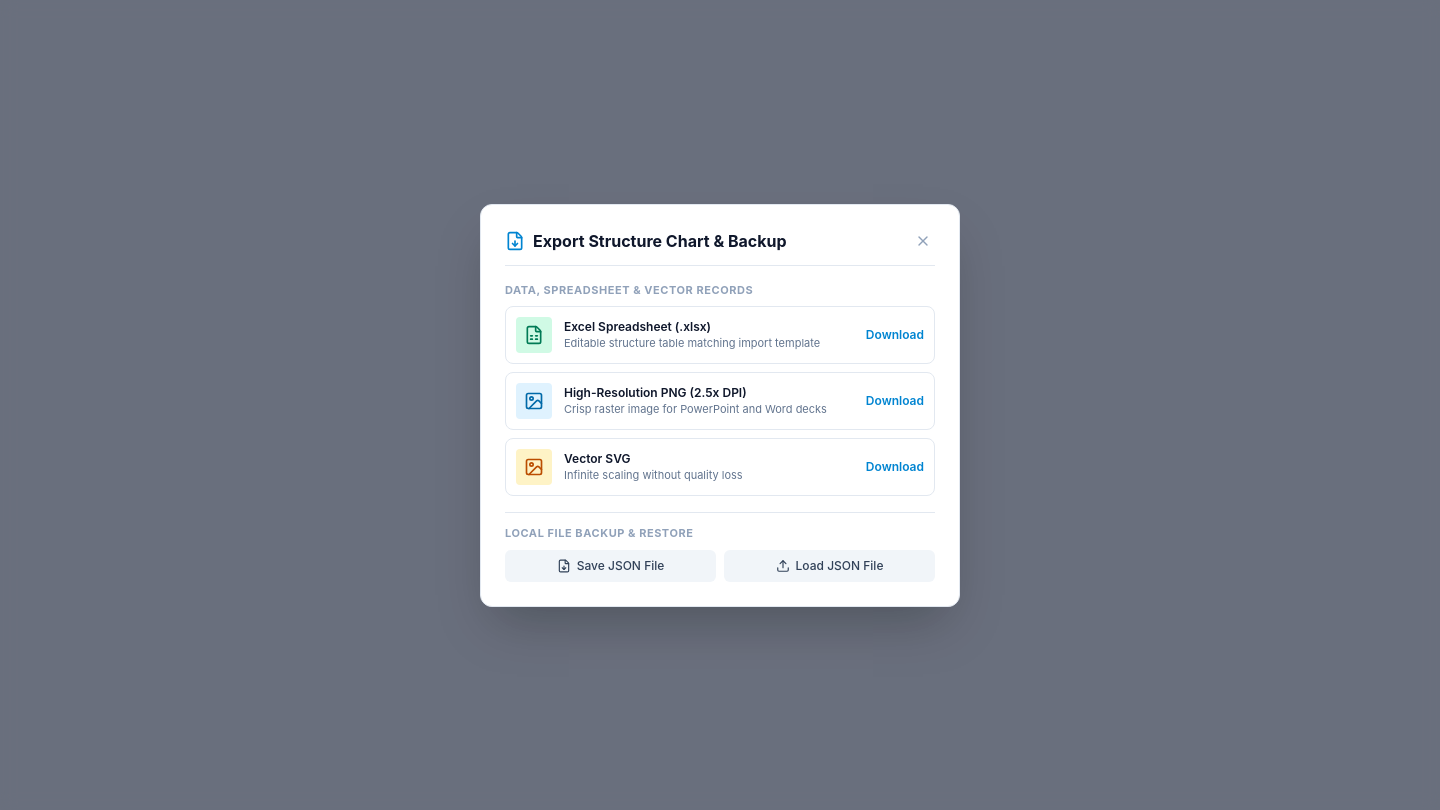
Test: ExportModal Component › Encrypted JSON Export & Import › opens PasswordPromptModal on Save JSON File when encryption flag is enabled and saves encrypted file on password submit
Click the button "Save JSON File".
click(610, 566)  # box [505,550,716,582]
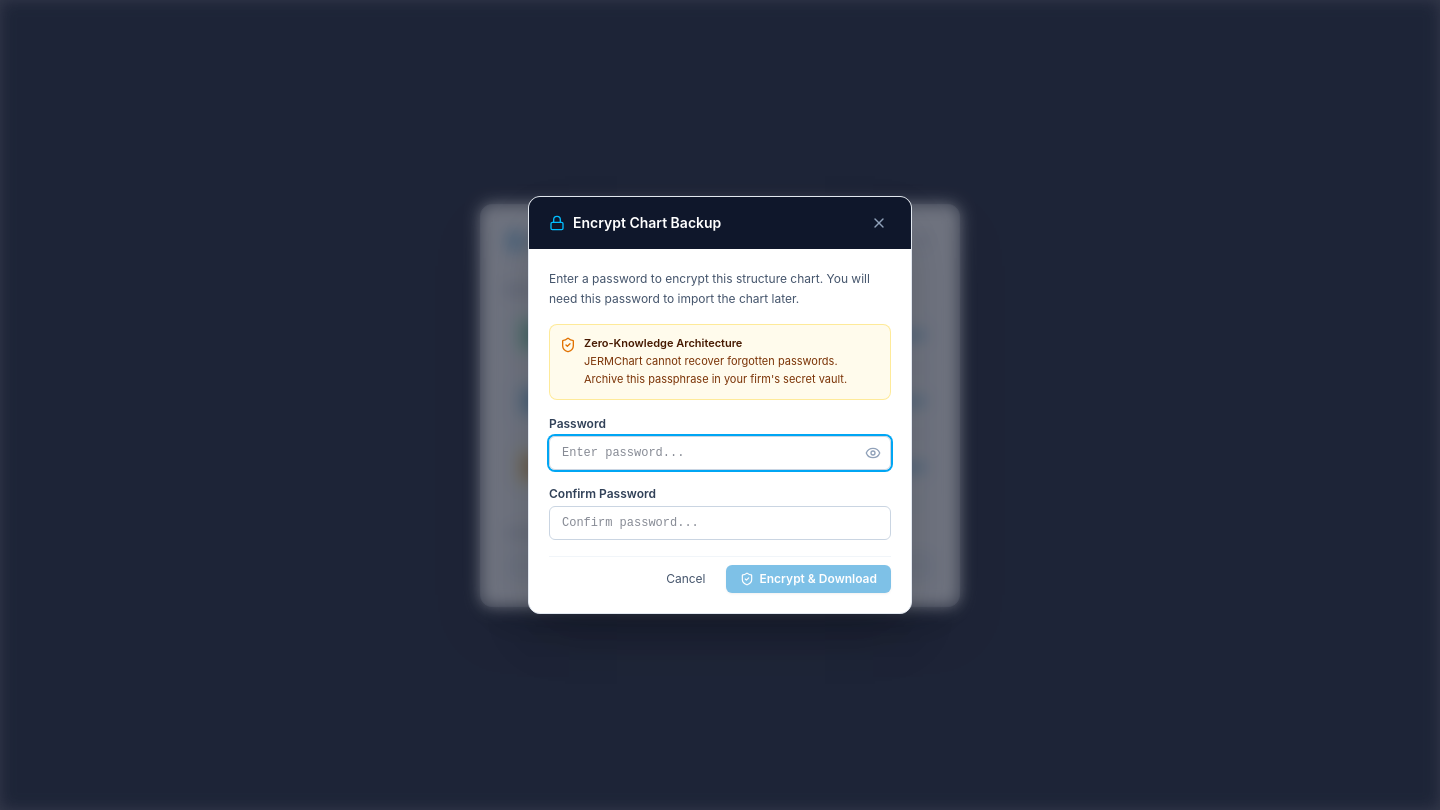
Result: the heading "Encrypt Chart Backup" is shown at [573,213,721,233]
Type "SecretPass123!" into the password field labelled "Password".
click(720, 453); type("SecretPass123!")  # box [549,436,891,470]
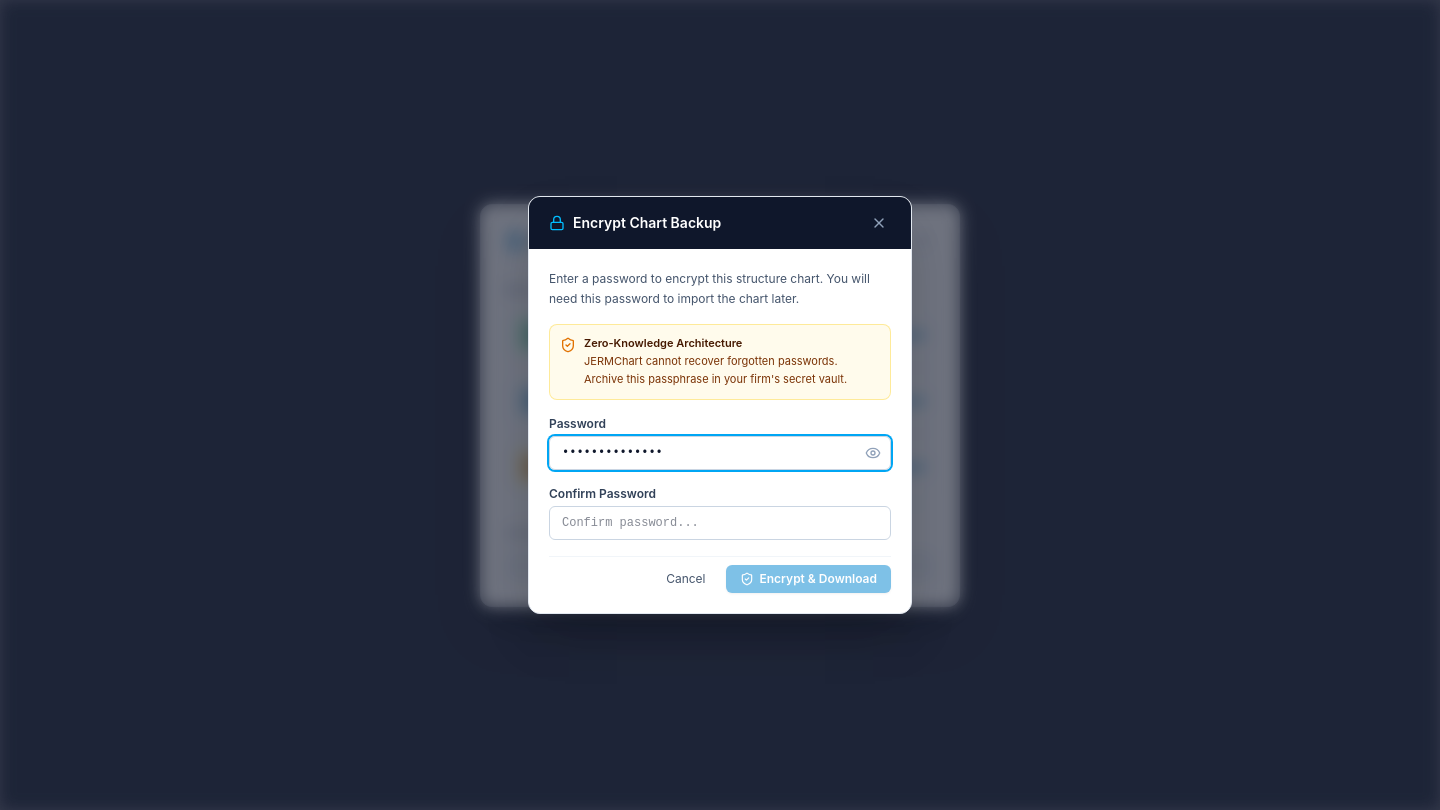
Type "SecretPass123!" into the password field labelled "Confirm Password".
click(720, 523); type("SecretPass123!")  # box [549,506,891,540]
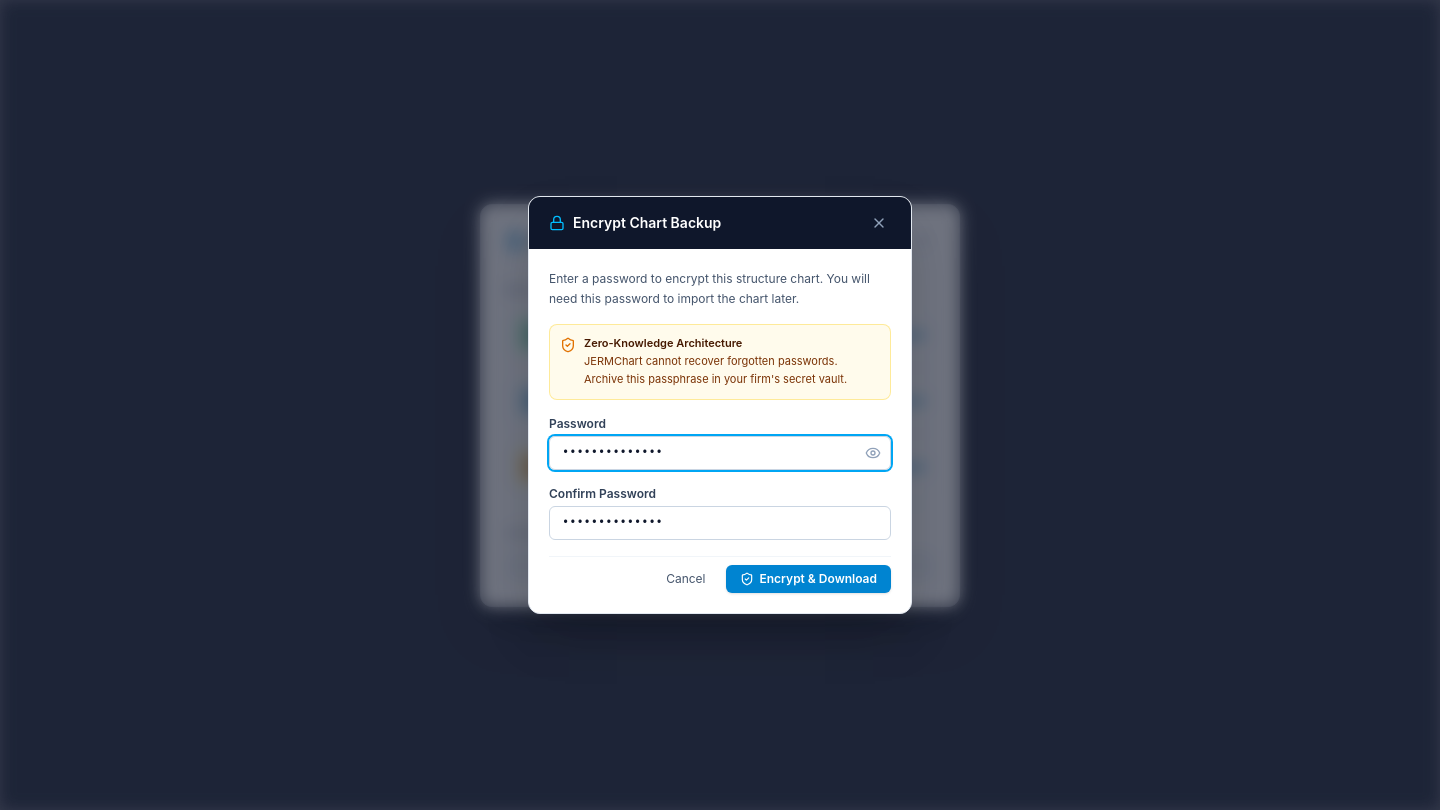
Click the button "Encrypt & Download".
click(808, 579)  # box [726,565,891,593]
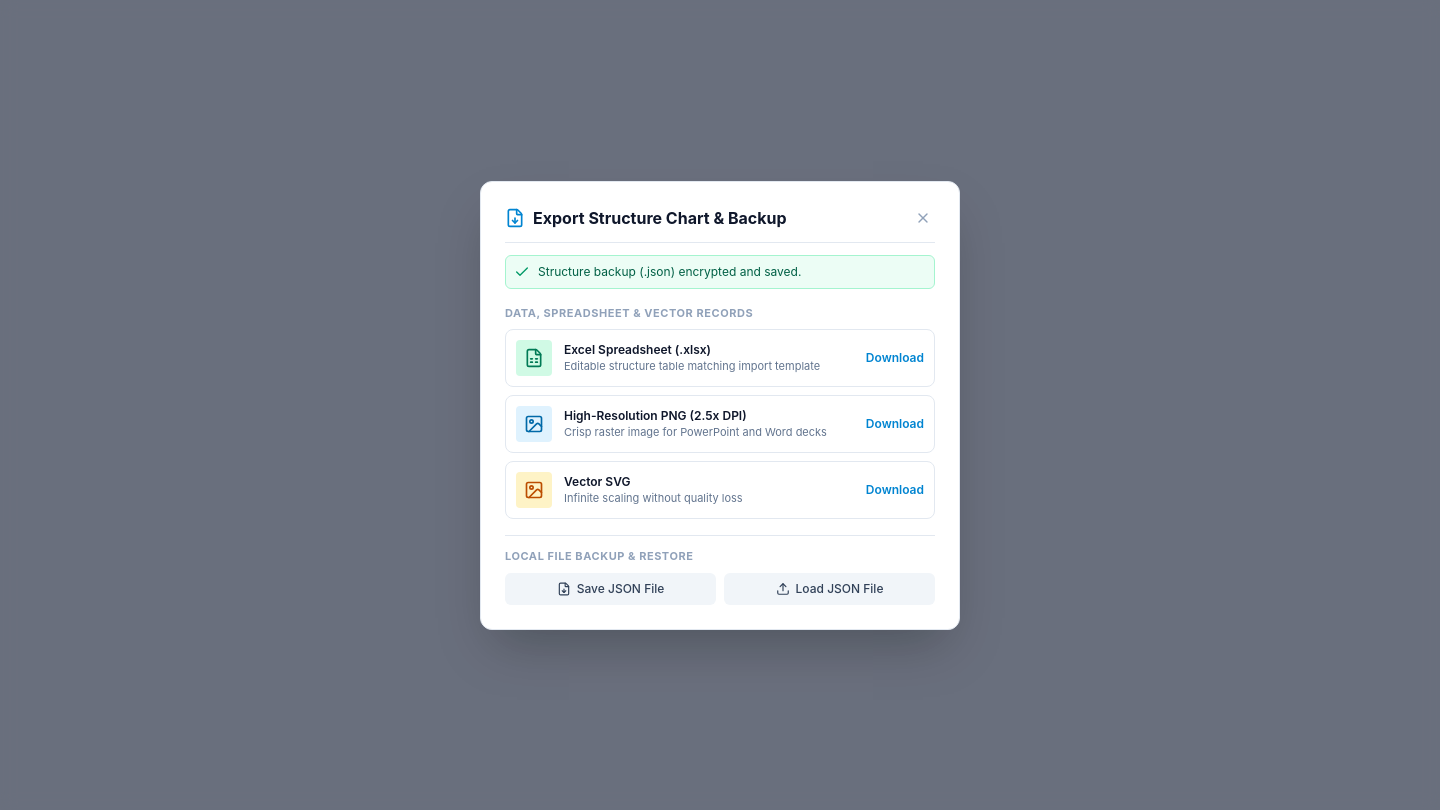
Result: the text "Structure backup (.json) encrypted and saved." is shown at [505,254,935,288]
Result: the heading "Encrypt Chart Backup" is gone
